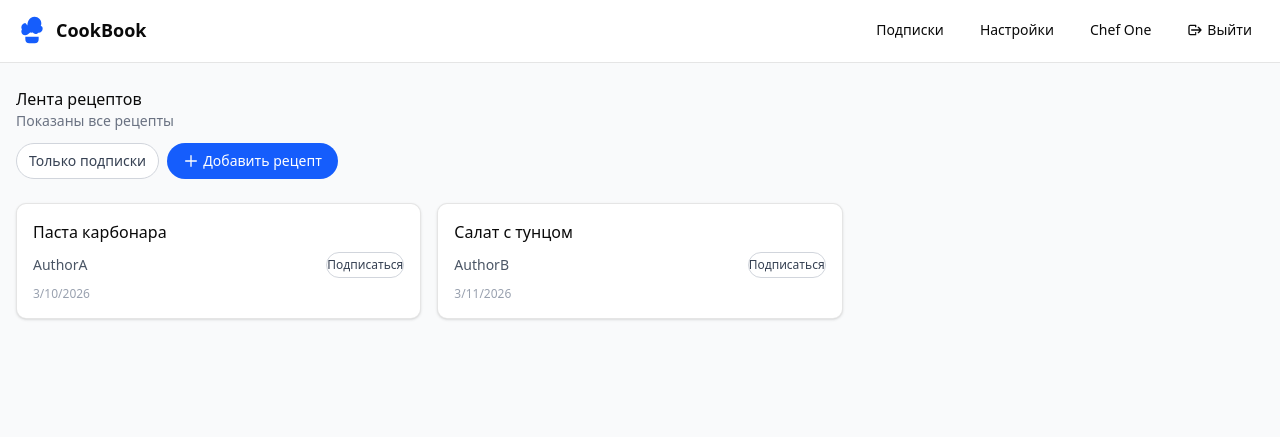
Test: App integration › opens author page and then opens recipe details
Check: the heading "Паста карбонара" is shown, box [33,221,167,243]
Click the button "AuthorA": (60, 265) [33,255,88,275]
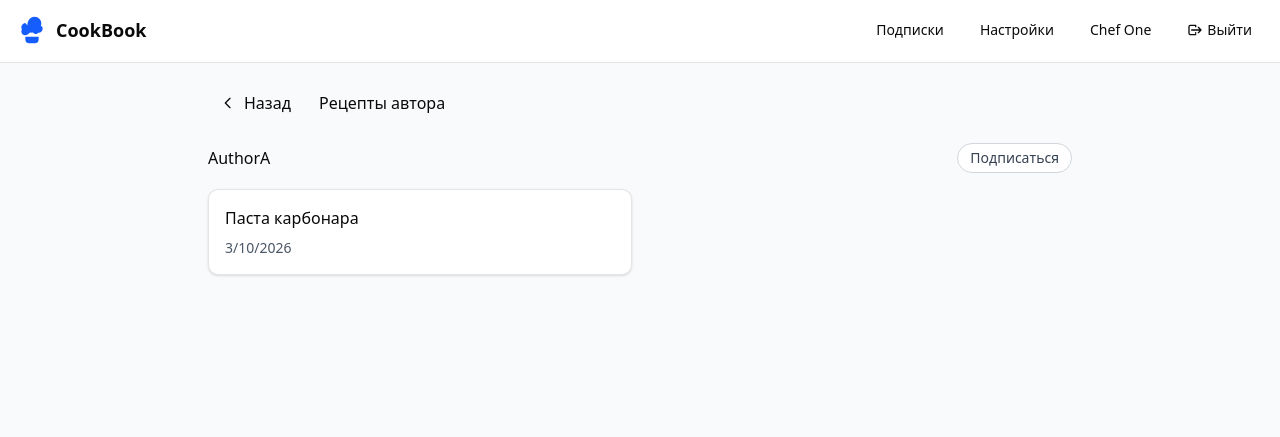
Check: the heading "Рецепты автора" is shown, box [319,91,445,115]
Check: the heading "Салат с тунцом" is gone
Click the heading "Паста карбонара": (292, 218) [225,207,359,229]
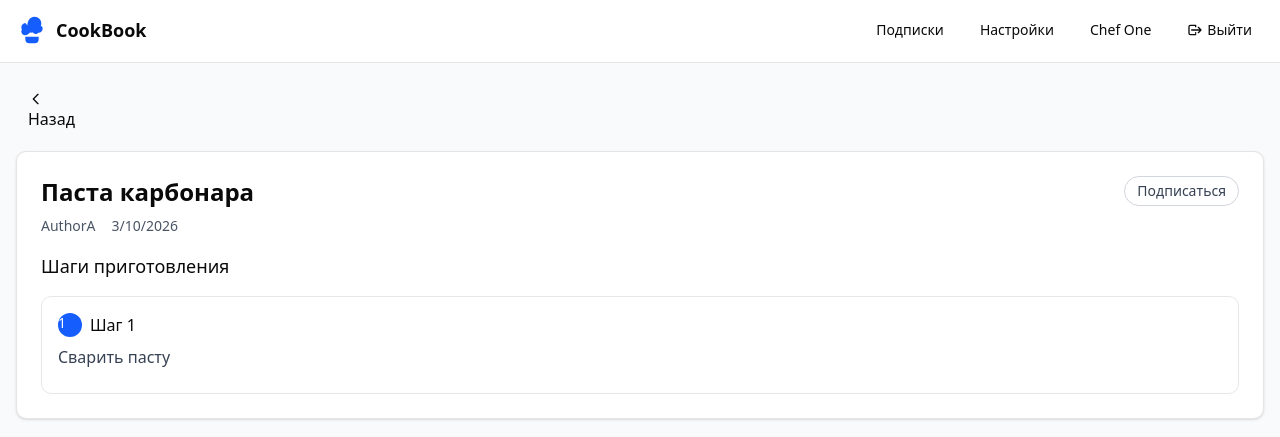
Check: the heading "Паста карбонара" is shown, box [41,176,254,208]
Check: the text "Сварить пасту" is shown, box [58,346,170,368]
